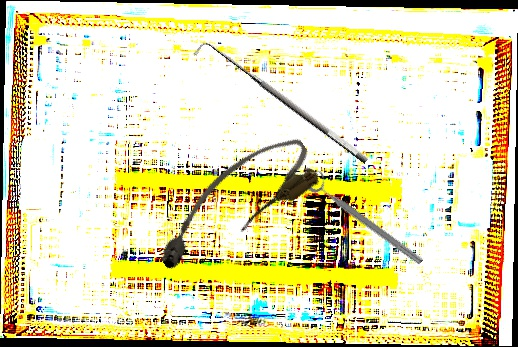Cannula: (139, 125, 327, 281)
Fixation Ring: (301, 166, 431, 269)
Hook Surgical: (192, 33, 371, 177)
